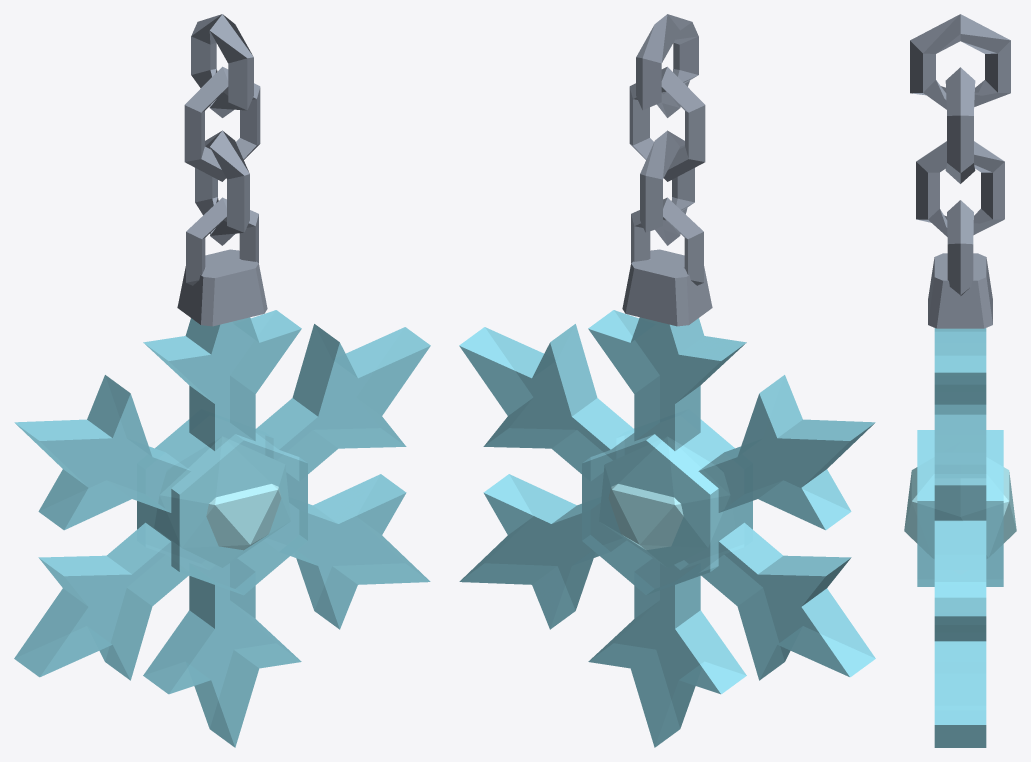
The model's file is SnowflakeShard.fbx.
3 views of the same model, side by side, from view 1: azimuth 30°, elevation 25°; view 2: azimuth 150°, elevation 25°; view 3: azimuth 270°, elevation 25° (orthographic).
Visible parts, largest first — view 1: Body_Snow_Ice, Neon, Chain, Body_Chain_Metal; view 2: Body_Snow_Ice, Neon, Chain, Body_Chain_Metal; view 3: Body_Snow_Ice, Chain, Neon, Body_Chain_Metal.
Part boxes in pixels (<box>): Body_Snow_Ice: <box>14,310,430,747</box>; Neon: <box>155,437,289,567</box>; Chain: <box>184,14,260,245</box>; Body_Chain_Metal: <box>177,197,267,326</box>; Body_Snow_Ice: <box>459,310,875,747</box>; Neon: <box>600,437,734,567</box>; Chain: <box>629,14,705,245</box>; Body_Chain_Metal: <box>622,197,712,326</box>; Body_Snow_Ice: <box>917,328,1003,747</box>; Chain: <box>910,14,1010,236</box>; Neon: <box>904,458,1016,574</box>; Body_Chain_Metal: <box>928,200,992,328</box>.
Size of the model in its own units: 0.2113 by 0.3739 by 0.052.
